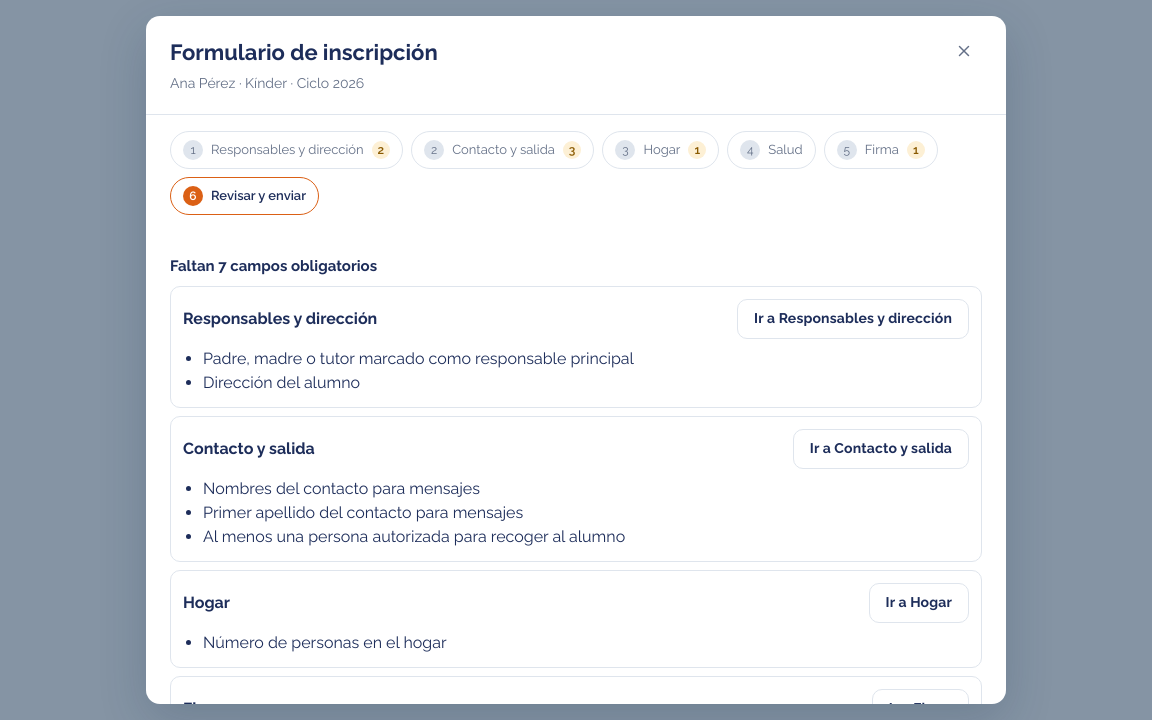
Test case: formulario de inscripción por pasos › el paso de revisión lista los faltantes por paso y no permite enviar
Check: the heading "Faltan 7 campos obligatorios" is shown, box [170,257,377,275]
Check: the list item "Dirección del alumno" is shown, box [203,372,360,392]
Click the button "Ir a Hogar".
click(919, 602)  # box [869,582,969,622]
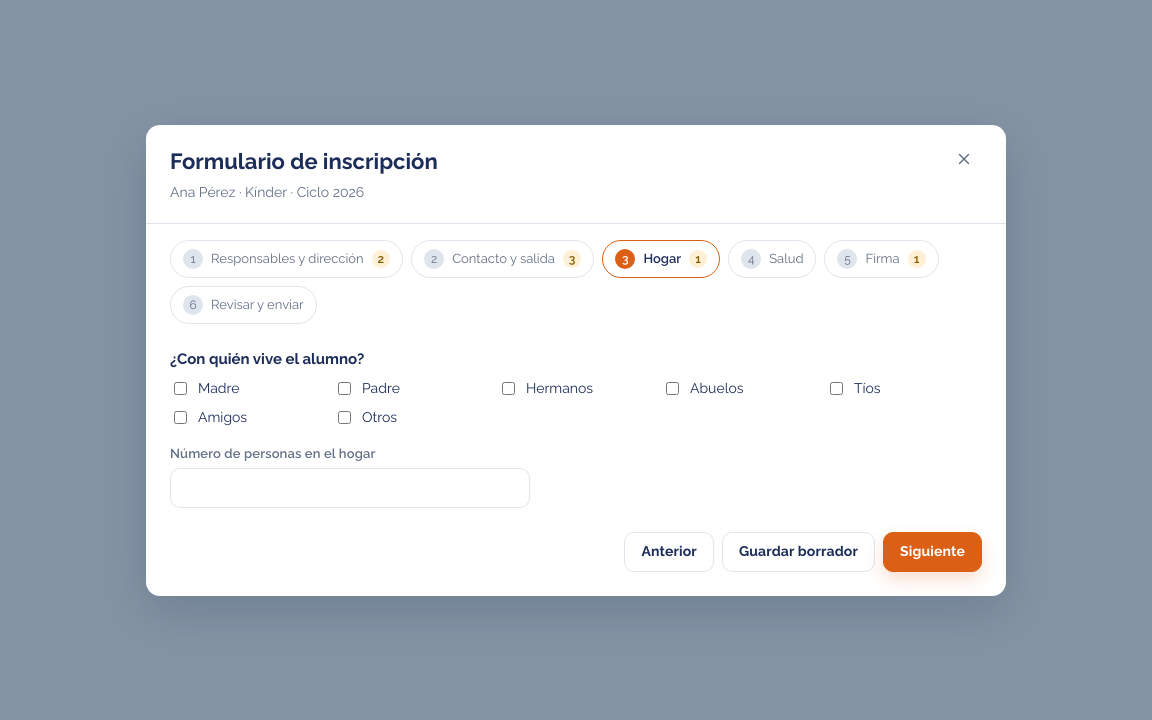
Check: the number field labelled "Número de personas en el hogar" is shown, box [170,468,530,508]
